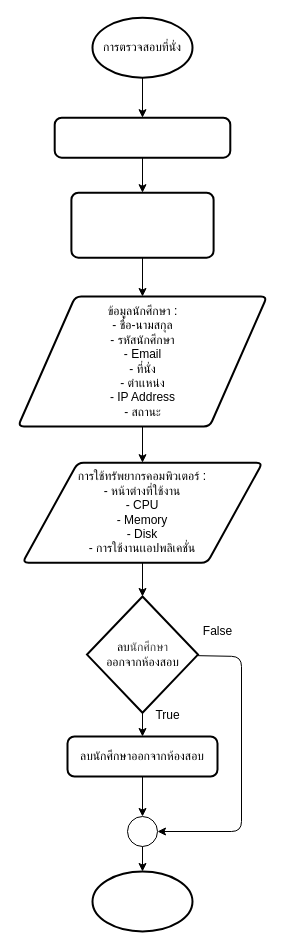
Some shapes in this 285 by 950 pixel diagram are drawn without their labels. The box of each missing label's shape, as (x1, y1, x2, y2) in pixels:
End: (91, 870, 193, 932)
ดึง ข้อมูลนักศึกษา เเละ การใช้ทรัพยากรคอมพิวเตอร์ จาก Supabase: (70, 191, 214, 258)
เลือกตำเเหน่งที่นั่งของนักศึกษา: (53, 116, 231, 158)
